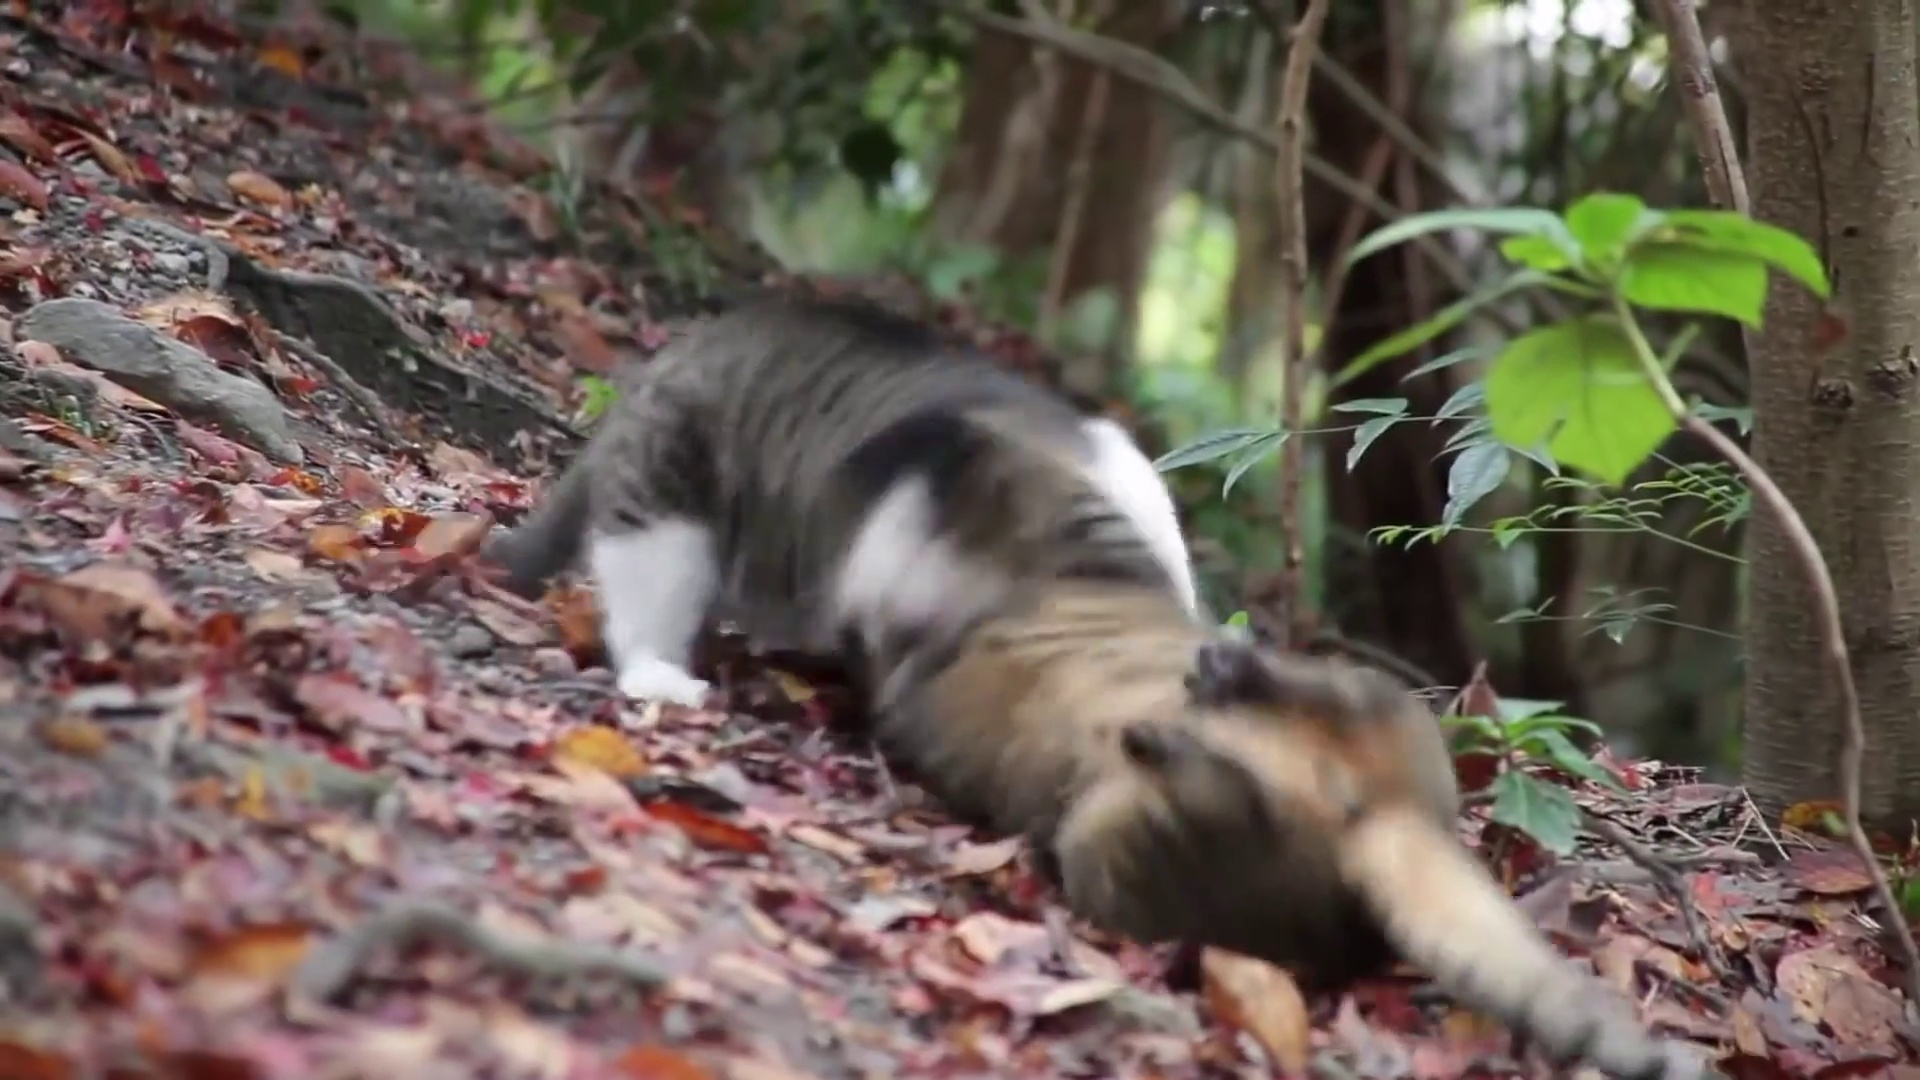black-white: (497, 298, 1200, 704)
pure black: (874, 578, 1712, 1080)
